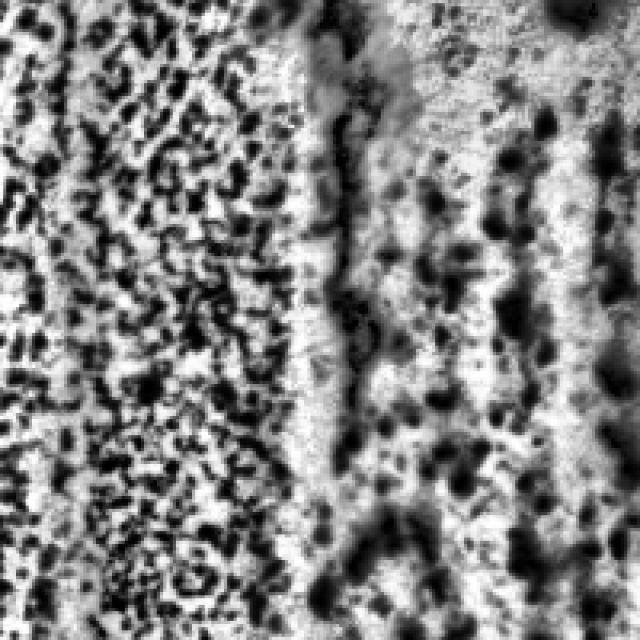Rolled_in_Scale: (0, 0, 294, 630), (362, 112, 634, 512)
Scratches: (304, 0, 391, 403)
